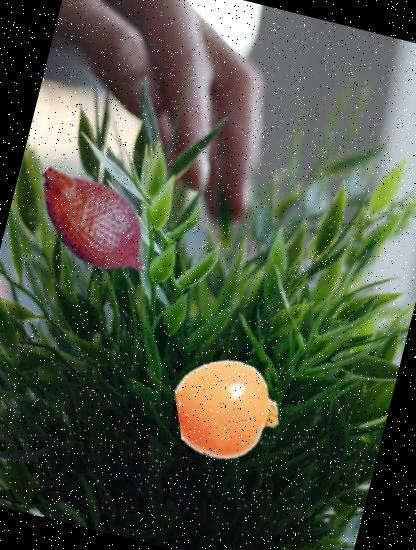Physalis: (167, 348, 291, 472)
Salak: (9, 137, 181, 309)
